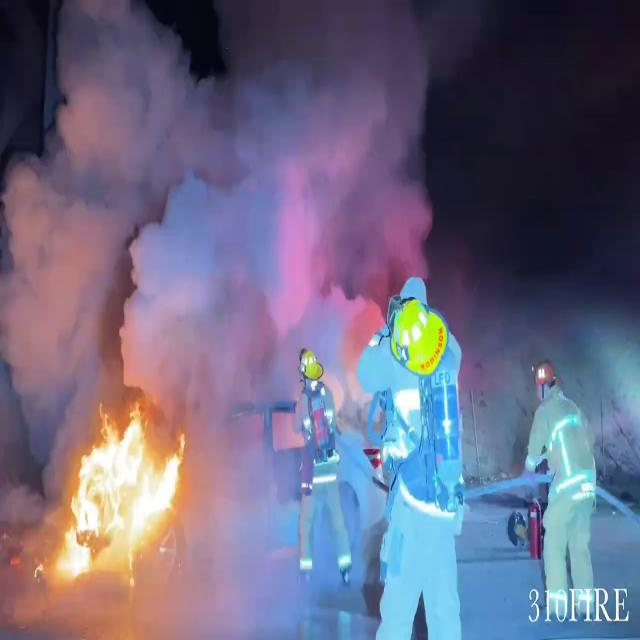Fire: (36, 394, 190, 618)
Smoke: (7, 0, 447, 379)
